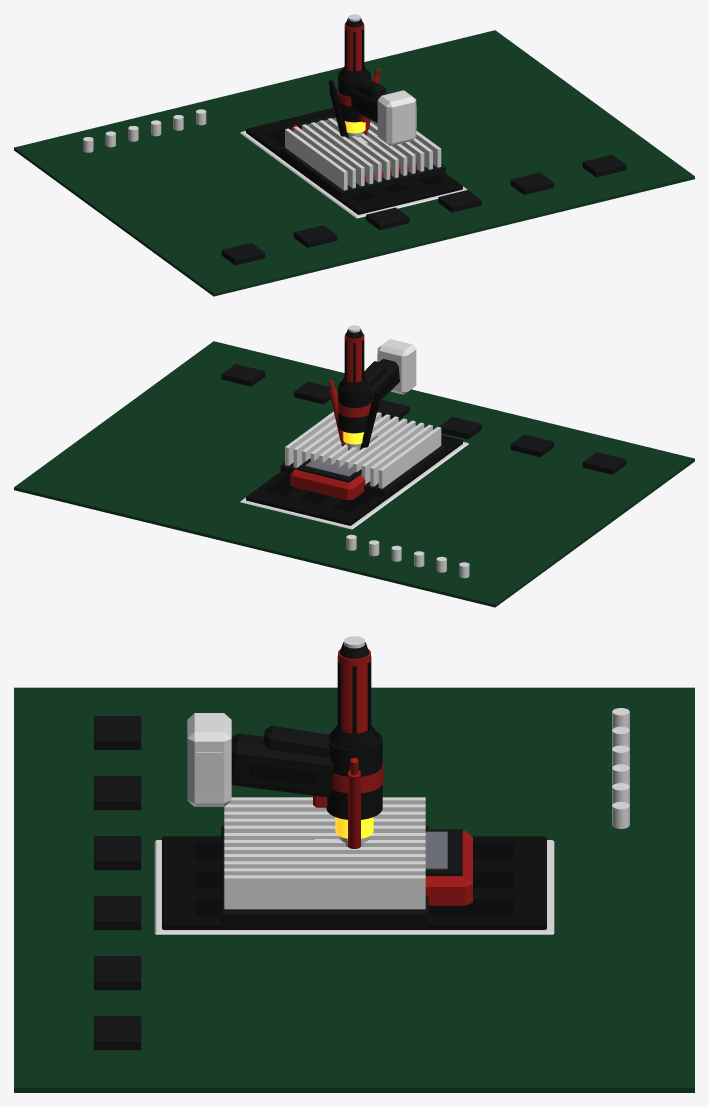
File: asm_tools.glb
3 views of the same model, one above another, from view 1: azimuth 30°, elevation 25°; view 2: azimuth 150°, elevation 25°; view 3: azimuth 270°, elevation 25° (orthographic). The views are drawn at different scales.
Visible parts, largest first — view 1: SwitchBoard, ToolTray, PowerDriver, Screwdriver, Probes, Multimeter; view 2: SwitchBoard, ToolTray, PowerDriver, Multimeter, Screwdriver, Probes; view 3: SwitchBoard, ToolTray, PowerDriver, Multimeter, Screwdriver, PasteGun, Probes.
Boxes of the visible parts, box(x1,y1,x2,y2) form: SwitchBoard: box(14, 30, 694, 296); ToolTray: box(240, 107, 467, 218); PowerDriver: box(337, 66, 416, 145); Screwdriver: box(344, 14, 364, 71); Probes: box(328, 69, 380, 138); Multimeter: box(290, 114, 416, 181); SwitchBoard: box(14, 341, 694, 607); ToolTray: box(240, 434, 468, 529); PowerDriver: box(337, 339, 416, 447); Multimeter: box(290, 436, 377, 500); Screwdriver: box(344, 325, 364, 382); Probes: box(328, 380, 380, 449); SwitchBoard: box(14, 687, 694, 1092); ToolTray: box(154, 836, 554, 934); PowerDriver: box(187, 713, 383, 843); Multimeter: box(314, 829, 472, 905); Screwdriver: box(337, 636, 371, 734); PasteGun: box(263, 725, 369, 846); Probes: box(348, 758, 360, 848).
Size of the model in its own units: 0.64 by 0.197 by 0.46.
